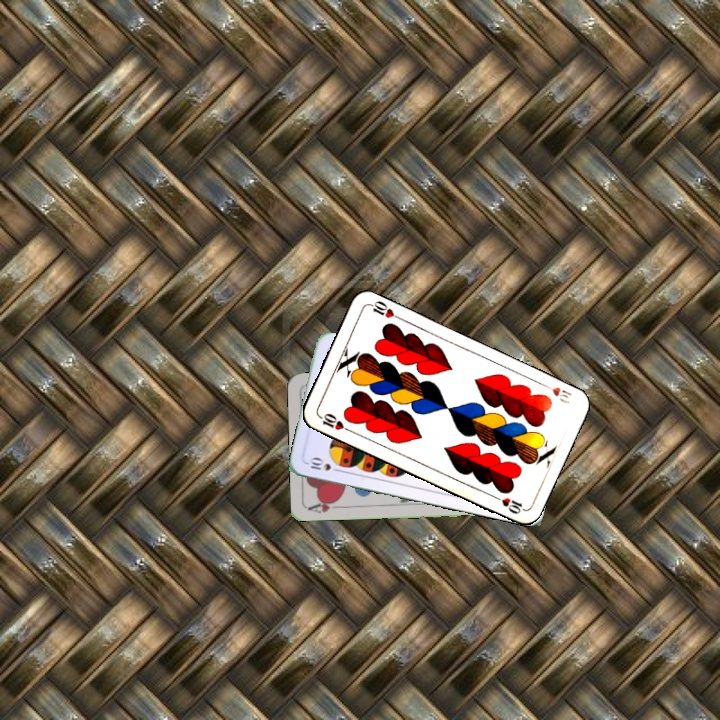H10: (538, 379, 574, 406), (315, 409, 353, 434)
HA: (305, 496, 346, 515)
S10: (304, 454, 344, 475)
